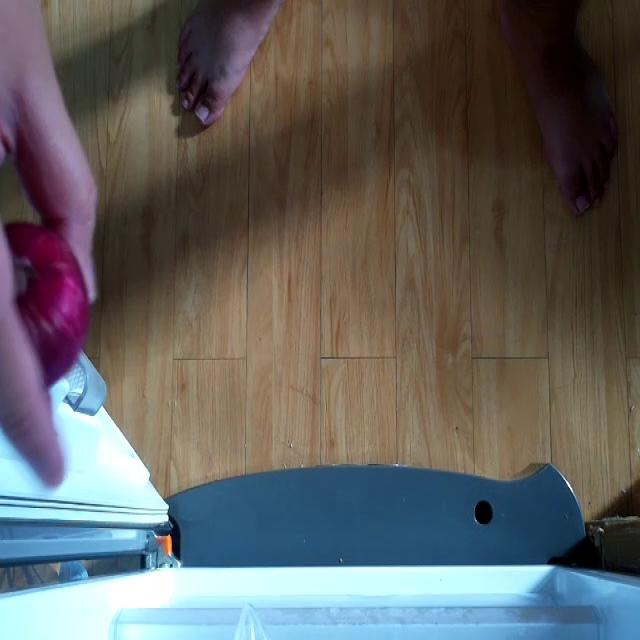onion: (0, 214, 85, 401)
